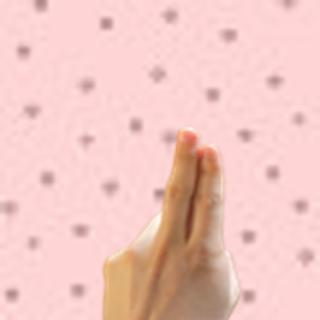DHAVE: (93, 118, 247, 320)
